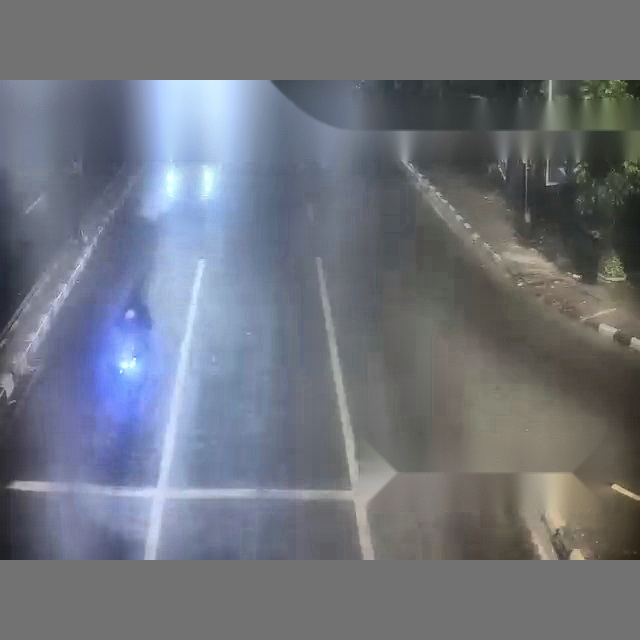Bis: (0, 83, 476, 538)
